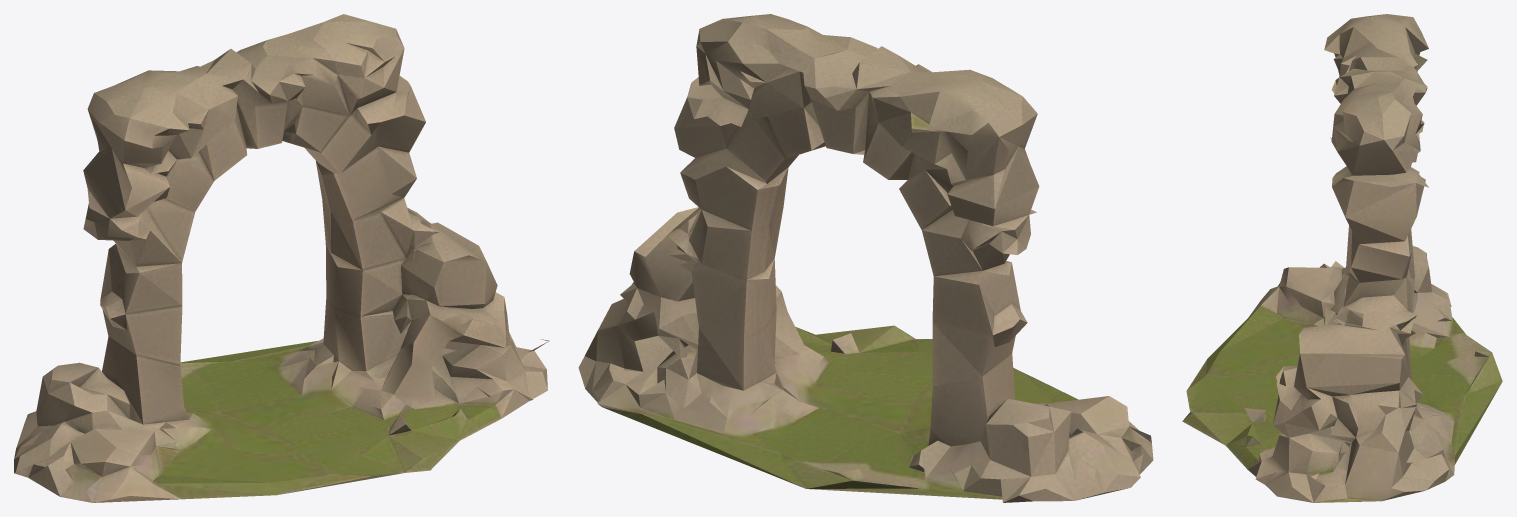
Rendered from ruine.glb.
The picture shows the model from 3 angles, left to right: view 1: azimuth 30°, elevation 25°; view 2: azimuth 150°, elevation 25°; view 3: azimuth 270°, elevation 25°; orthographic projection. The views are drawn at different scales.
Bounding box in the file's own units: 1.8 × 1.23 × 1.06.
1 material, 1 textured.
